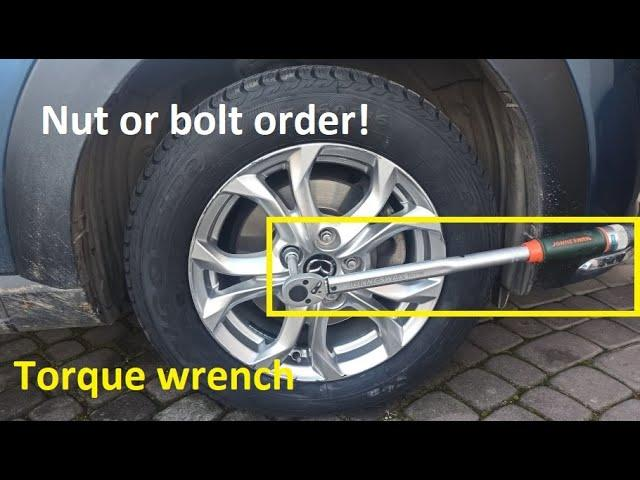Tool: (279, 276, 325, 312)
